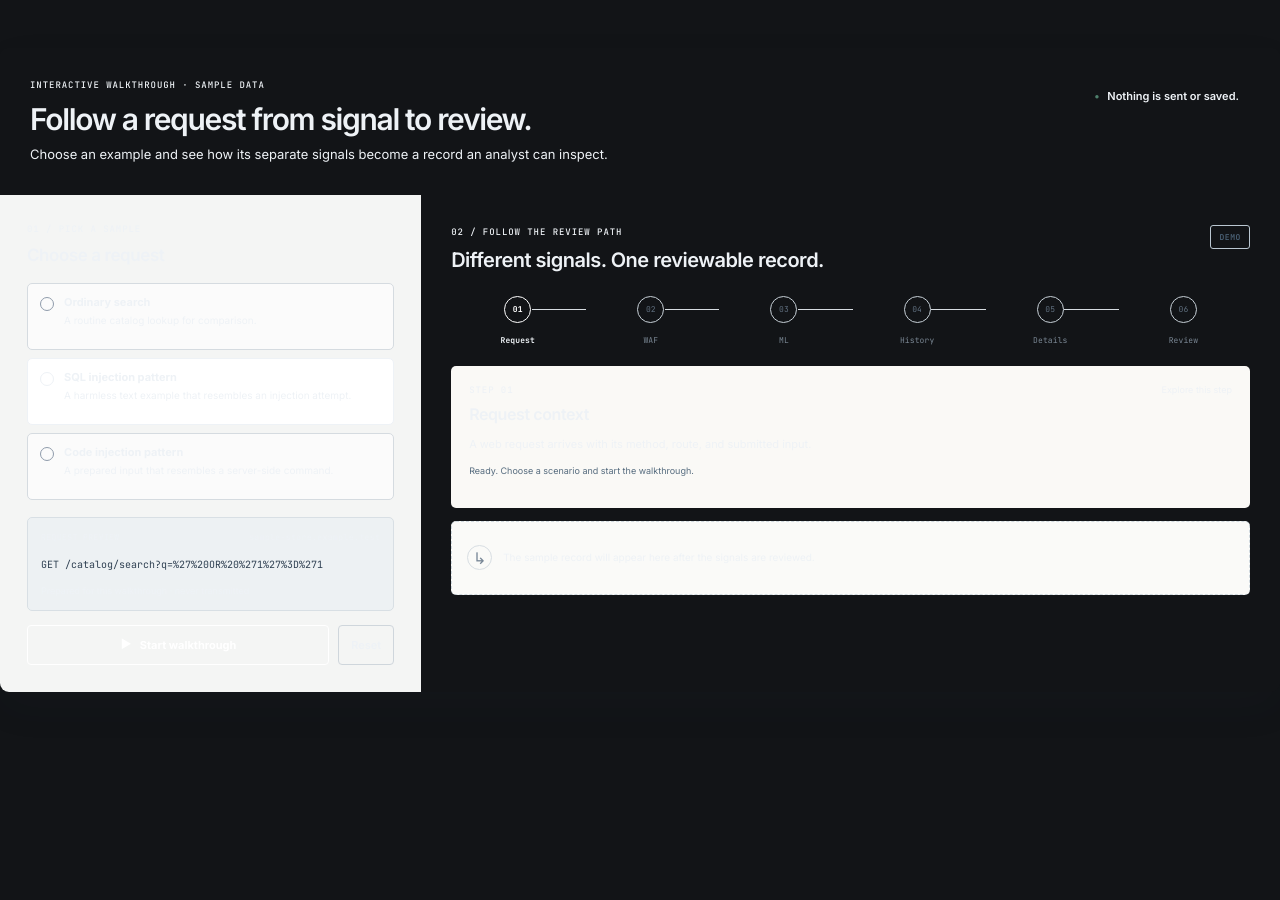
Test: TrafficSimulation › lets visitors compare fixed request examples without sending a request
The image size is (1280, 900).
Expected: the element named "Sample request scenarios" is shown, [27,283,394,500]
Expected: the element named "Prepared request preview" is shown, [27,517,394,611]
What coordinates should you click on to do the following:
click the button "Ordinary search A routine catalog lookup for comparison."
I would click on:
 (211, 316)
Its box is [27,283,394,350].
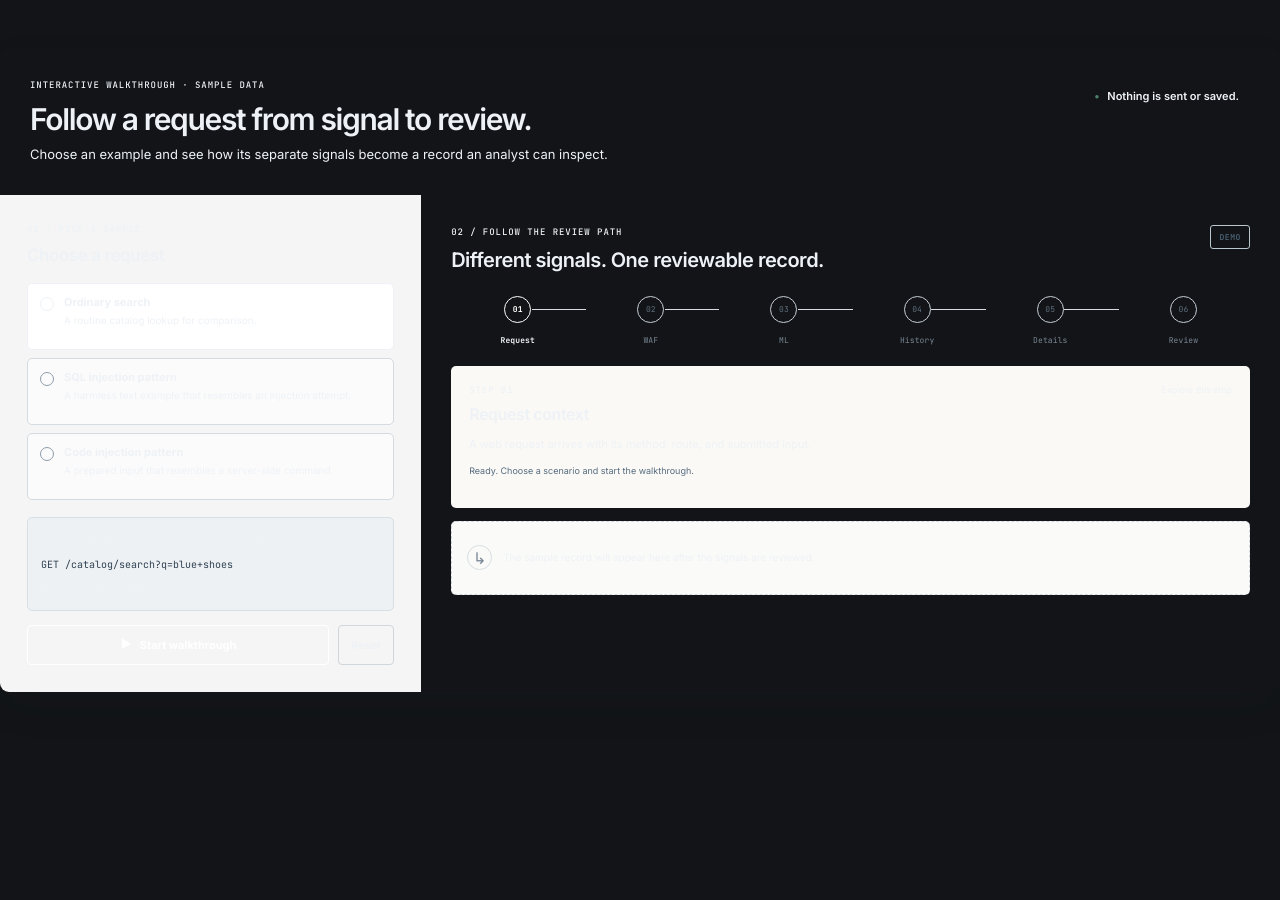
Now the text "GET /catalog/search?q=blue+shoes" is shown, box [41,558,233,571]
